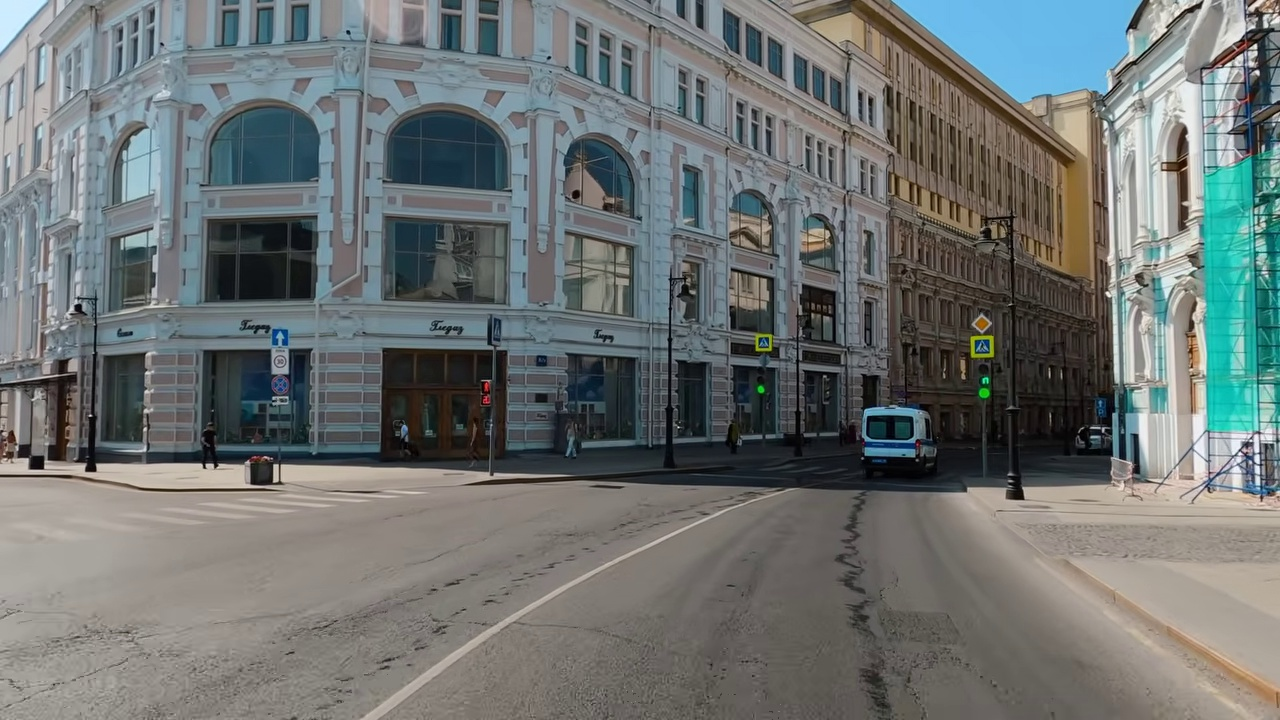apagada: (976, 229, 1003, 255)
